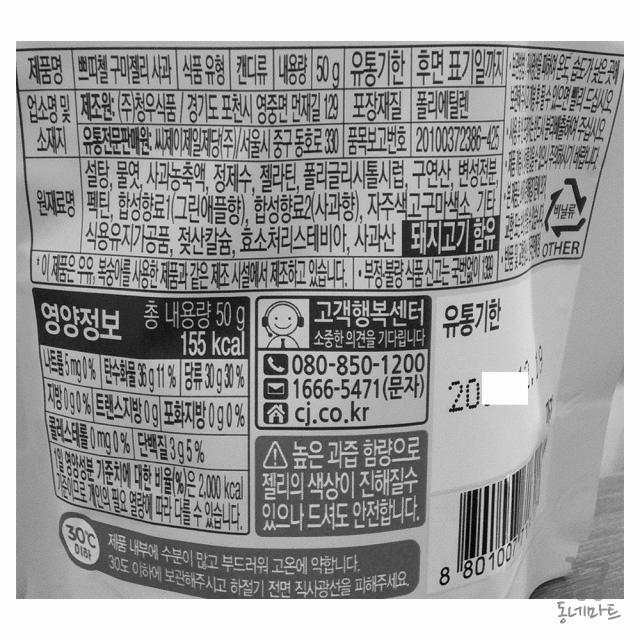Nutrition Label: (31, 284, 265, 542)
